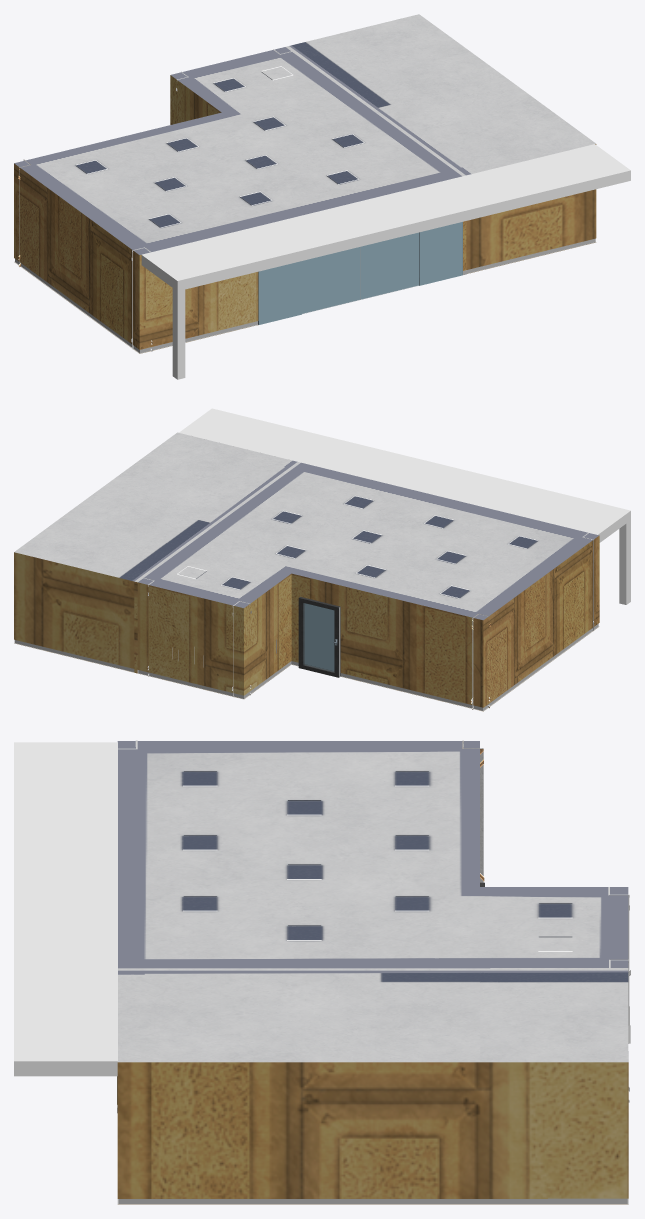
The model's file is CIS_MODELO_(REFERENCIA UBICACION PROPS).fbx.
3 renders of one model, top to bottom at view 1: azimuth 30°, elevation 25°; view 2: azimuth 150°, elevation 25°; view 3: azimuth 270°, elevation 25°, orthographic. The views are drawn at different scales.
Parts seen in each view (by area): view 1: Techo, EstructuraP, TechoAfuera, PuertaP; view 2: Techo, EstructuraP, TechoAfuera, PuertaDentro.002, Piso; view 3: Techo, EstructuraP, TechoAfuera.
Boxes of the visible parts, x1,y1,x2,y2 form: Techo: [14, 14, 595, 254]; EstructuraP: [14, 75, 596, 353]; TechoAfuera: [141, 144, 630, 379]; PuertaP: [258, 222, 462, 324]; Techo: [14, 432, 598, 620]; EstructuraP: [14, 535, 599, 711]; TechoAfuera: [179, 408, 630, 604]; PuertaDentro.002: [298, 597, 340, 677]; Piso: [14, 626, 598, 711]; Techo: [117, 741, 628, 1062]; EstructuraP: [117, 1062, 628, 1204]; TechoAfuera: [14, 742, 117, 1076].
Size of the model in its own units: 1264 by 262 by 1021.
